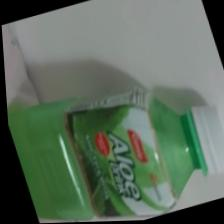plastic: (2, 0, 223, 223)
